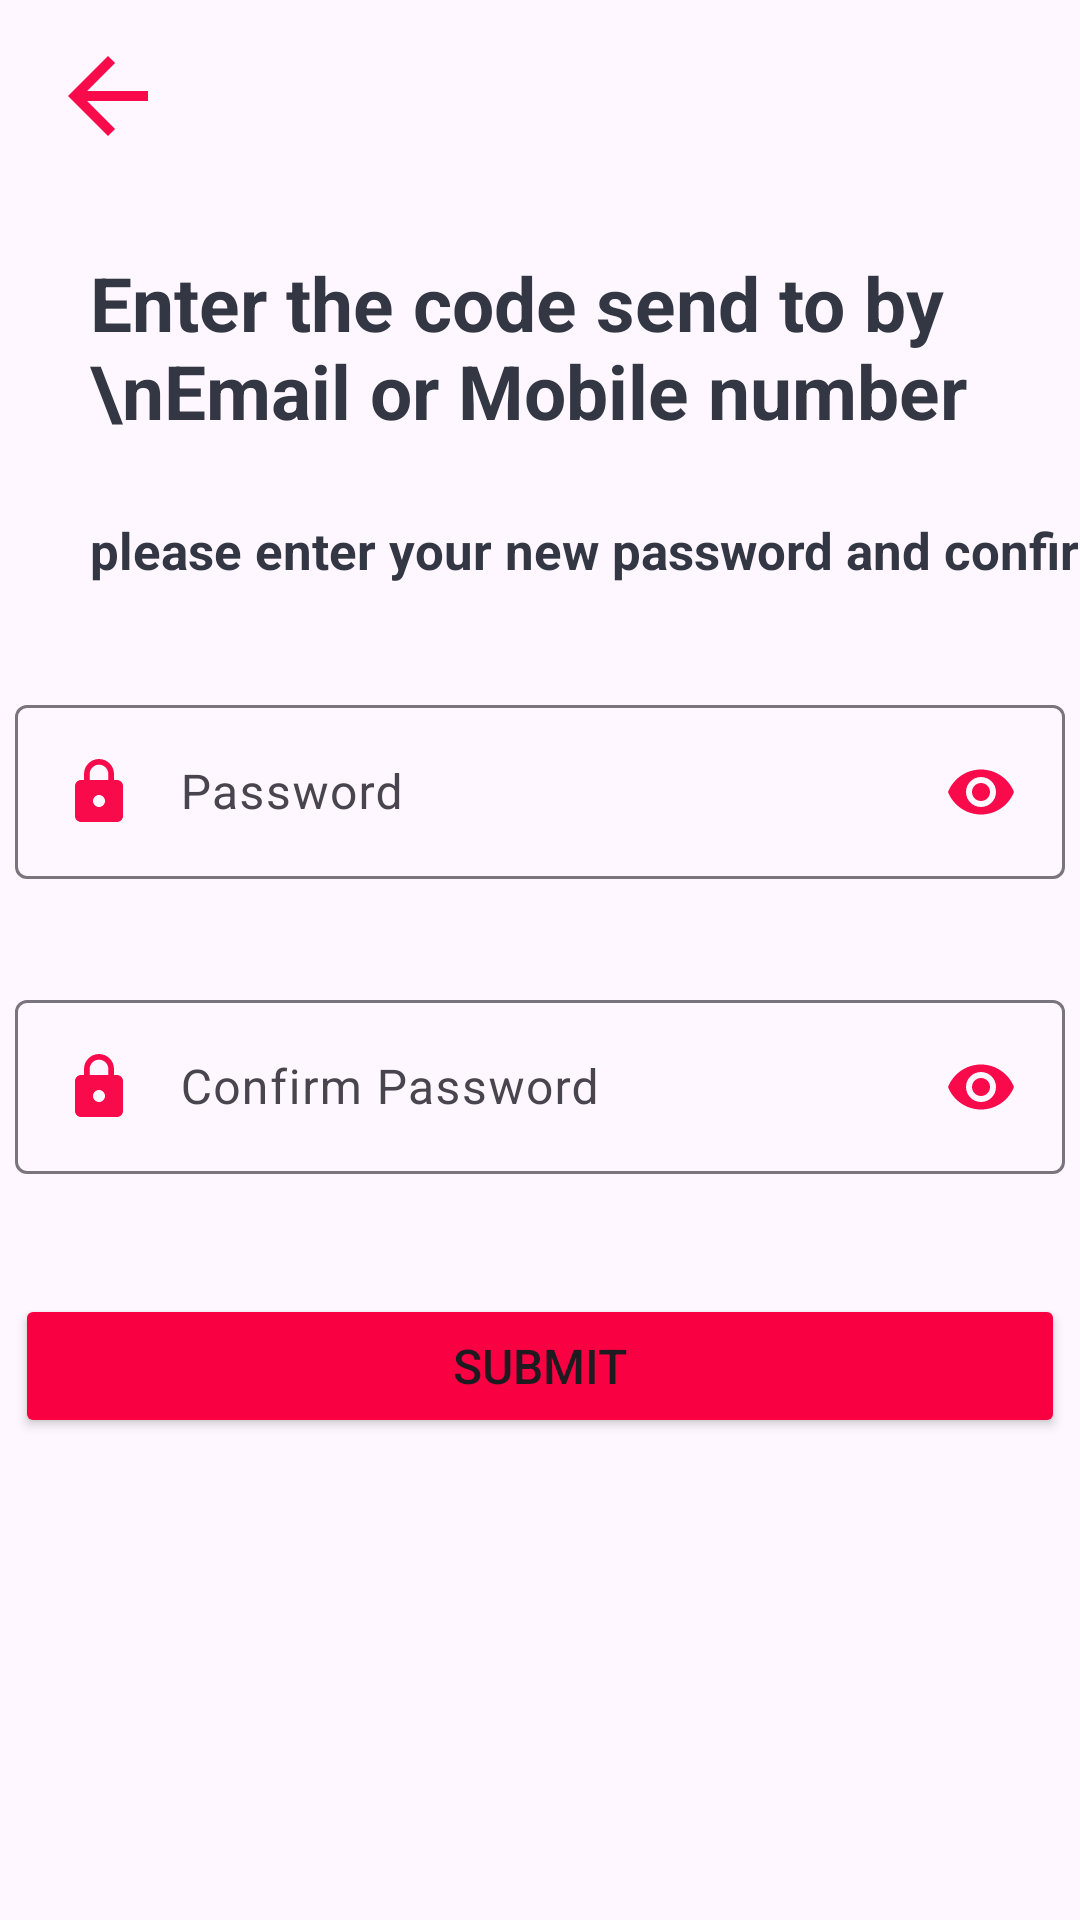

Screen size 1080*1920. Icon name, then its box in pixels as (x1, y1, x2, y2):
arrow back: (68, 56, 148, 136)
